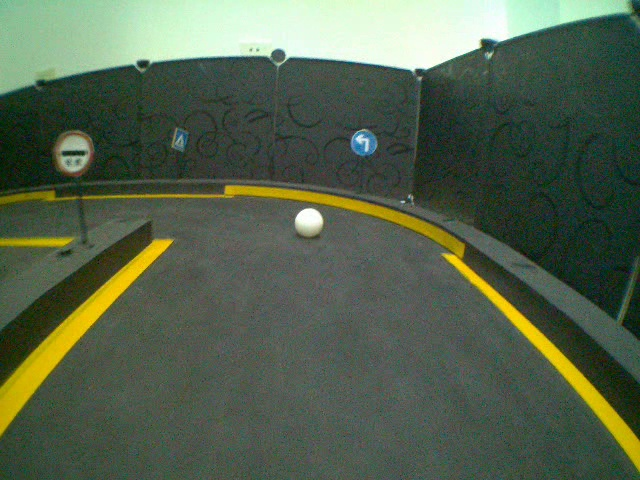ball: (294, 207, 325, 237)
